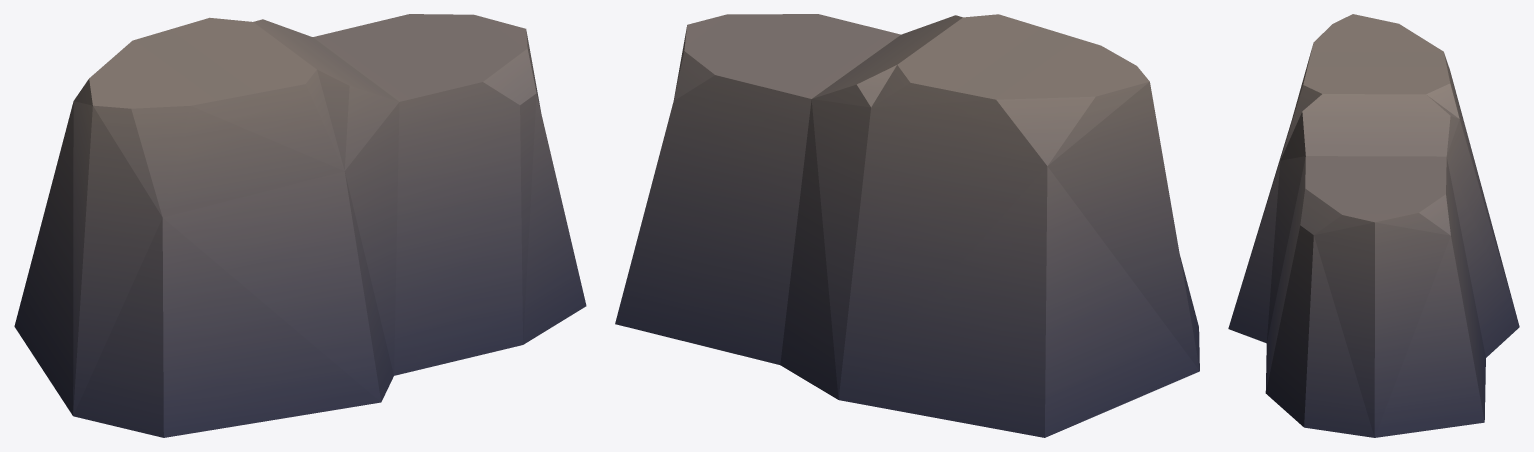
The model's file is Rock_01.fbx.
The picture shows the model from 3 angles, left to right: view 1: azimuth 30°, elevation 25°; view 2: azimuth 150°, elevation 25°; view 3: azimuth 270°, elevation 25°; orthographic projection. The views are drawn at different scales.
Visible parts, largest first — view 1: Rock_01; view 2: Rock_01; view 3: Rock_01.
Boxes of the visible parts, x1,y1,x2,y2 form: Rock_01: (14, 14, 586, 437); Rock_01: (615, 14, 1199, 437); Rock_01: (1228, 14, 1519, 437).
Size of the model in its own units: 441 by 234 by 266.
